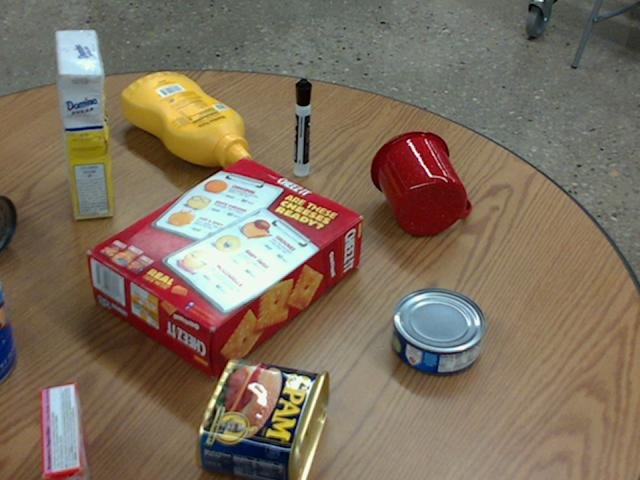cracker_box: (89, 159, 362, 377)
gelatin_box: (39, 380, 91, 479)
large_marker: (293, 79, 311, 175)
master_chef_can: (0, 287, 15, 379)
mug: (370, 130, 471, 235)
mustard_bottle: (121, 73, 250, 168)
potted_meat_can: (194, 357, 328, 479)
sugar_box: (58, 30, 110, 218)
tomato_soup_can: (0, 193, 16, 250)
tuna_fish_can: (391, 288, 485, 374)
